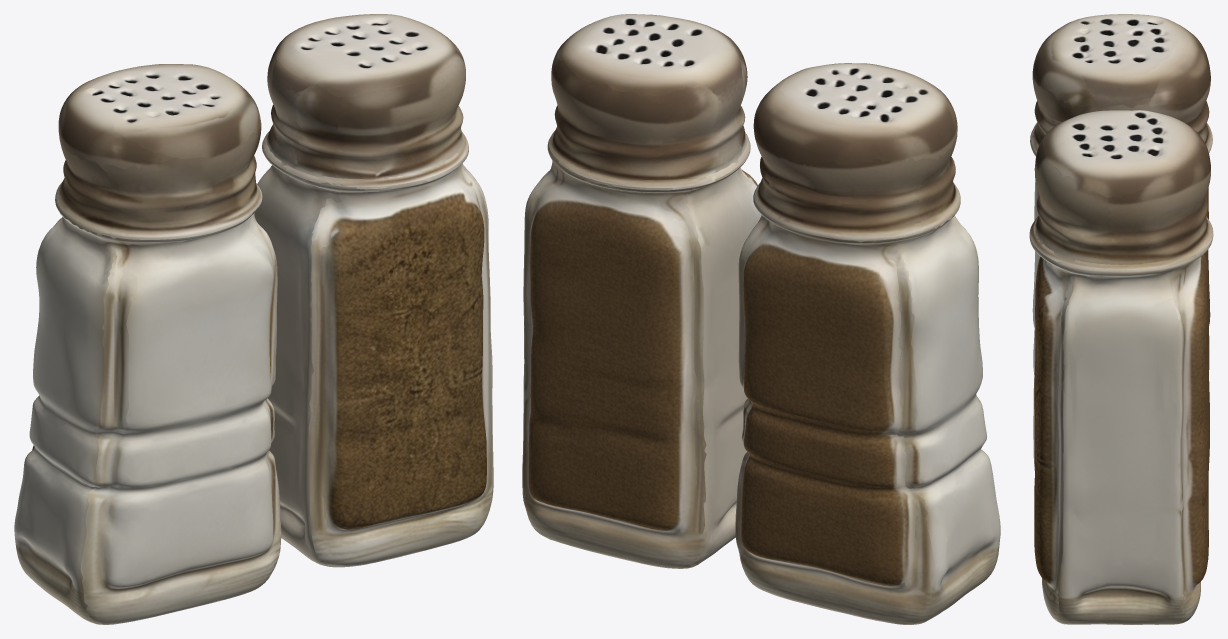
3 renders of one model, left to right at view 1: azimuth 30°, elevation 25°; view 2: azimuth 150°, elevation 25°; view 3: azimuth 270°, elevation 25°, orthographic. The views are drawn at different scales.
Parts seen in each view (by area): view 1: tmpxi955xc8.ply; view 2: tmpxi955xc8.ply; view 3: tmpxi955xc8.ply.
Part boxes in pixels (bbox=[...]): tmpxi955xc8.ply: bbox=[14, 14, 493, 624]; tmpxi955xc8.ply: bbox=[522, 14, 1000, 624]; tmpxi955xc8.ply: bbox=[1029, 14, 1213, 624].
Bounding box in the file's own units: 176 × 196 × 71.93.
1 material, 1 textured.
